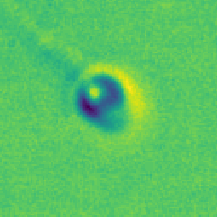normal: (1, 1, 83, 69)
